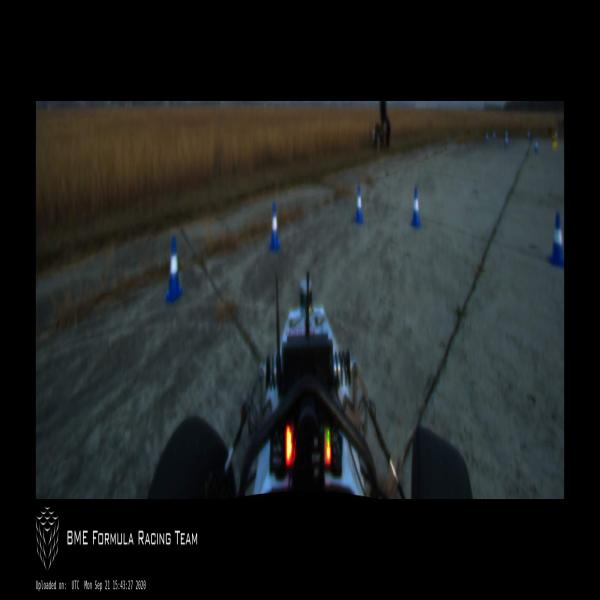blue_cone: (163, 235, 184, 304), (549, 212, 564, 268), (269, 202, 280, 252), (411, 187, 421, 228), (355, 186, 364, 224)
